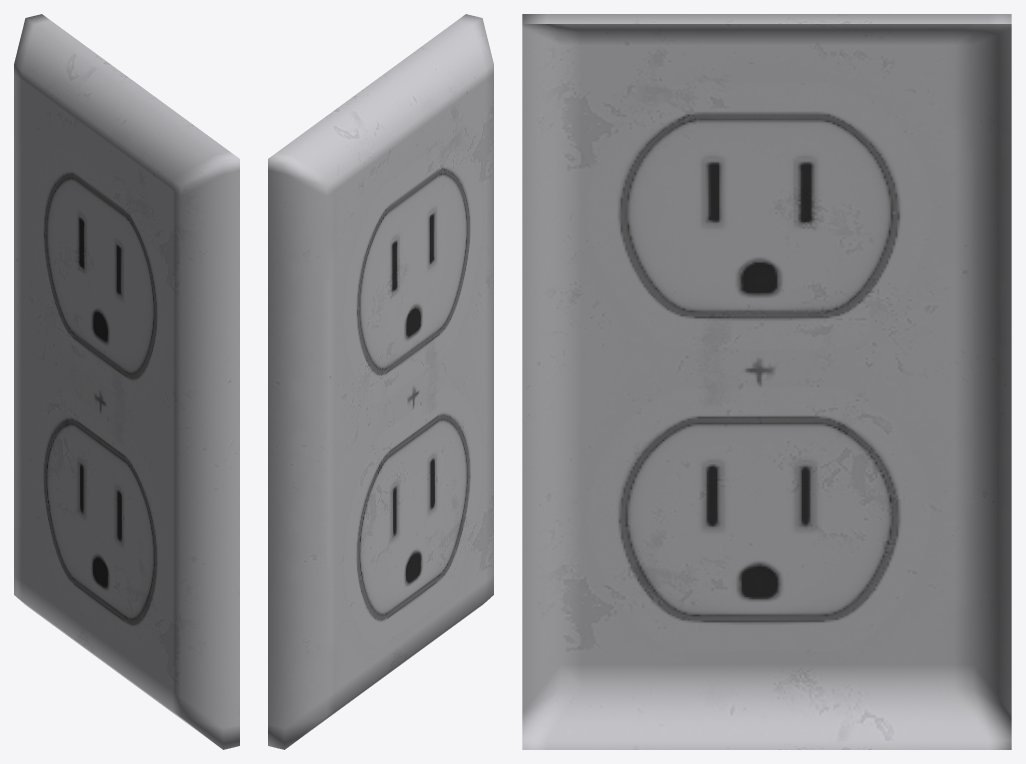
File: SM_Outlet_A1.fbx
3 views of the same model, side by side, from view 1: azimuth 30°, elevation 25°; view 2: azimuth 150°, elevation 25°; view 3: azimuth 270°, elevation 25° (orthographic). The views are drawn at different scales.
Parts seen in each view (by area): view 1: SM_Outlet_A1; view 2: SM_Outlet_A1; view 3: SM_Outlet_A1.
Part boxes in pixels (x1,y1,x2,y2): SM_Outlet_A1: [14, 14, 239, 749]; SM_Outlet_A1: [268, 14, 493, 749]; SM_Outlet_A1: [522, 14, 1011, 749].
Size of the model in its own units: 1.06 by 8.35 by 13.67.
Materials: 1 (1 with a texture image).
